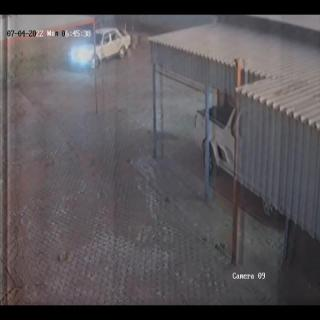car: (194, 104, 275, 213), (71, 27, 130, 69)
